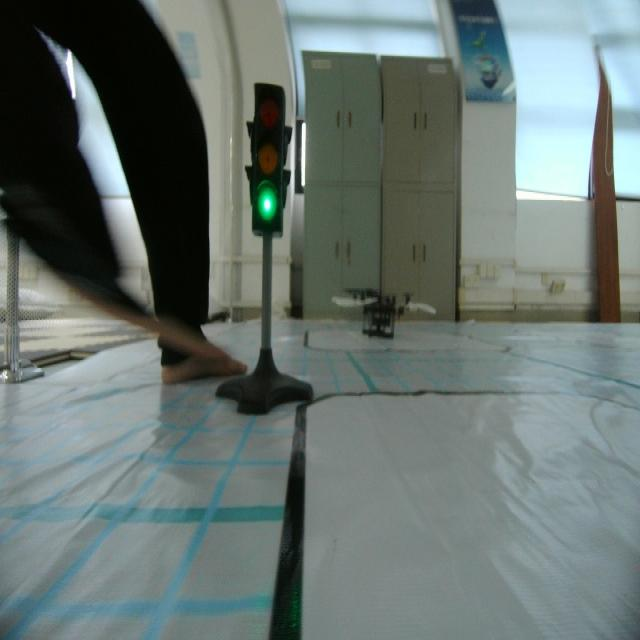green: (246, 65, 292, 242)
